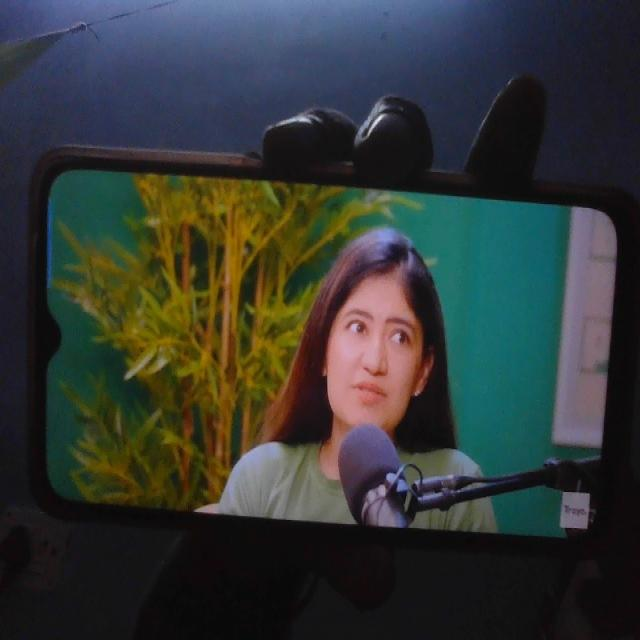fake: (322, 233, 427, 432)
